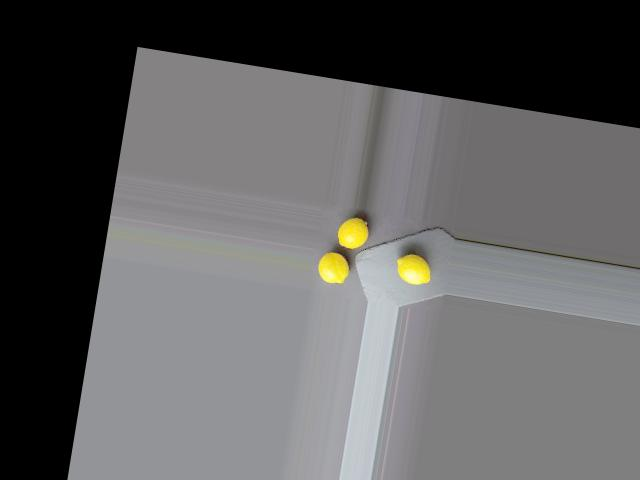lemon: (314, 248, 354, 287)
